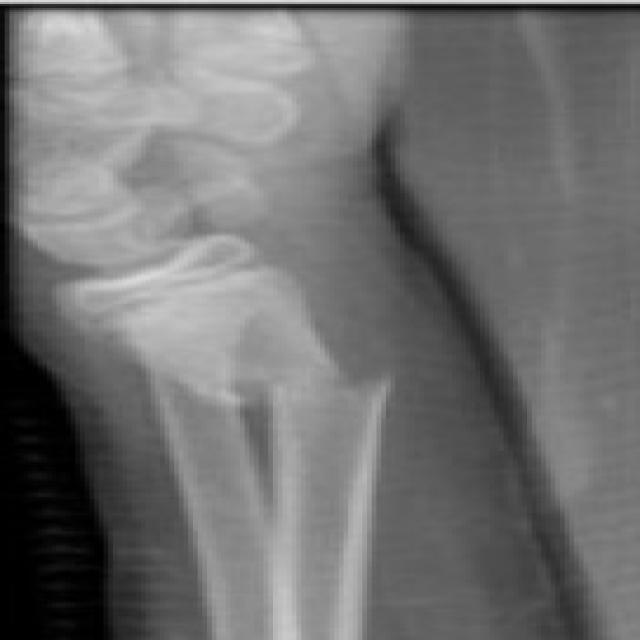Greenstick: (137, 339, 458, 436)
